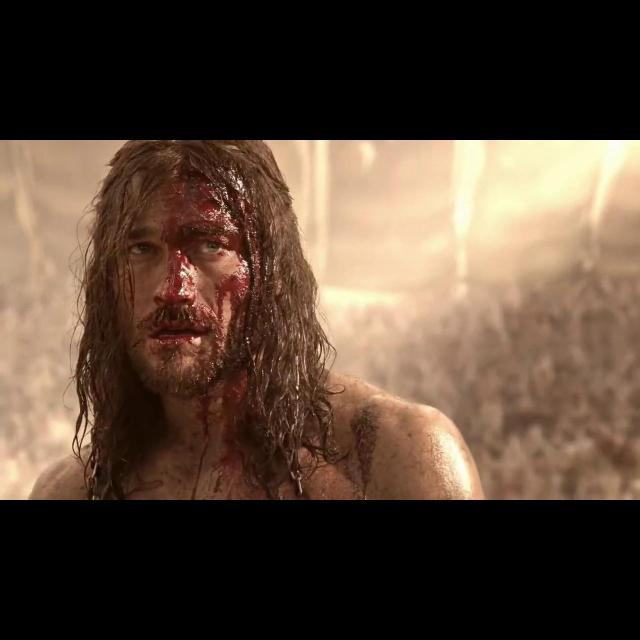blood: (122, 180, 250, 396)
